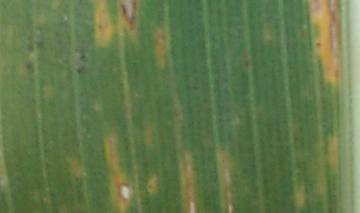tarspot: (25, 44, 37, 54), (74, 67, 88, 74), (26, 62, 34, 71), (78, 54, 88, 61), (314, 39, 321, 49)
